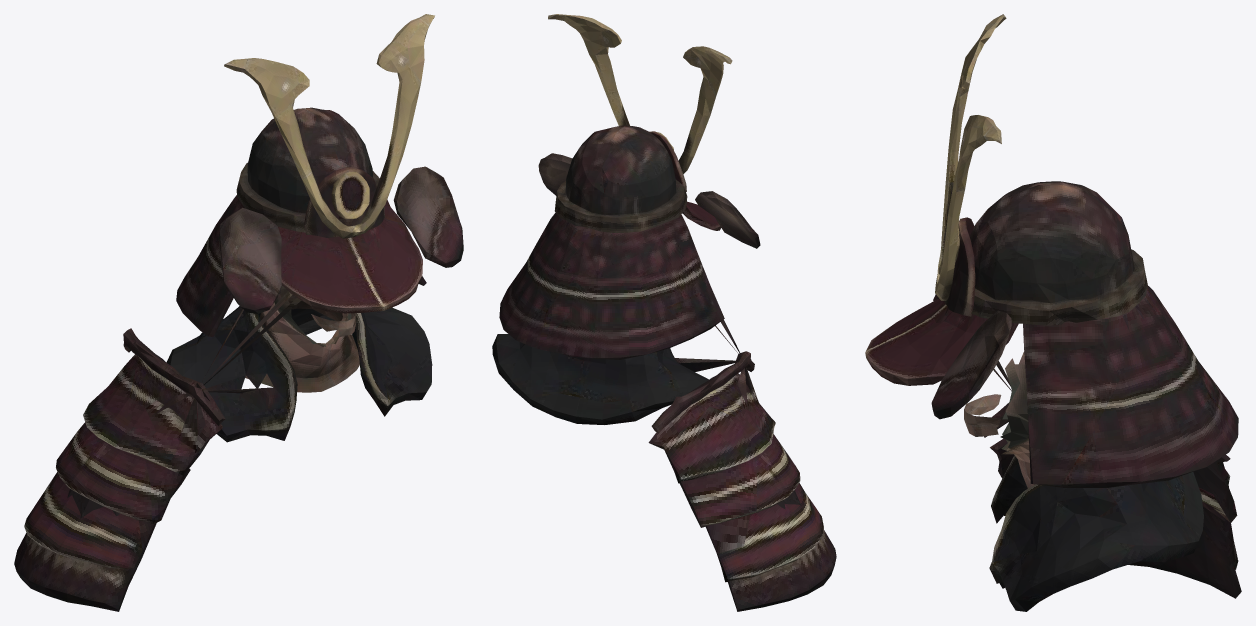
The model's file is ewm_t2shogun_hat.glb.
3 renders of one model, left to right at view 1: azimuth 30°, elevation 25°; view 2: azimuth 150°, elevation 25°; view 3: azimuth 270°, elevation 25°, orthographic. The views are drawn at different scales.
Visible parts, largest first — view 1: ewm_t2shogun_hat; view 2: ewm_t2shogun_hat; view 3: ewm_t2shogun_hat.
Boxes of the visible parts, bbox=[...] form: ewm_t2shogun_hat: bbox=[14, 14, 463, 611]; ewm_t2shogun_hat: bbox=[492, 14, 836, 611]; ewm_t2shogun_hat: bbox=[865, 14, 1241, 611].
Size of the model in its own units: 0.6202 by 0.8293 by 0.4372.
1 material, 1 textured.
